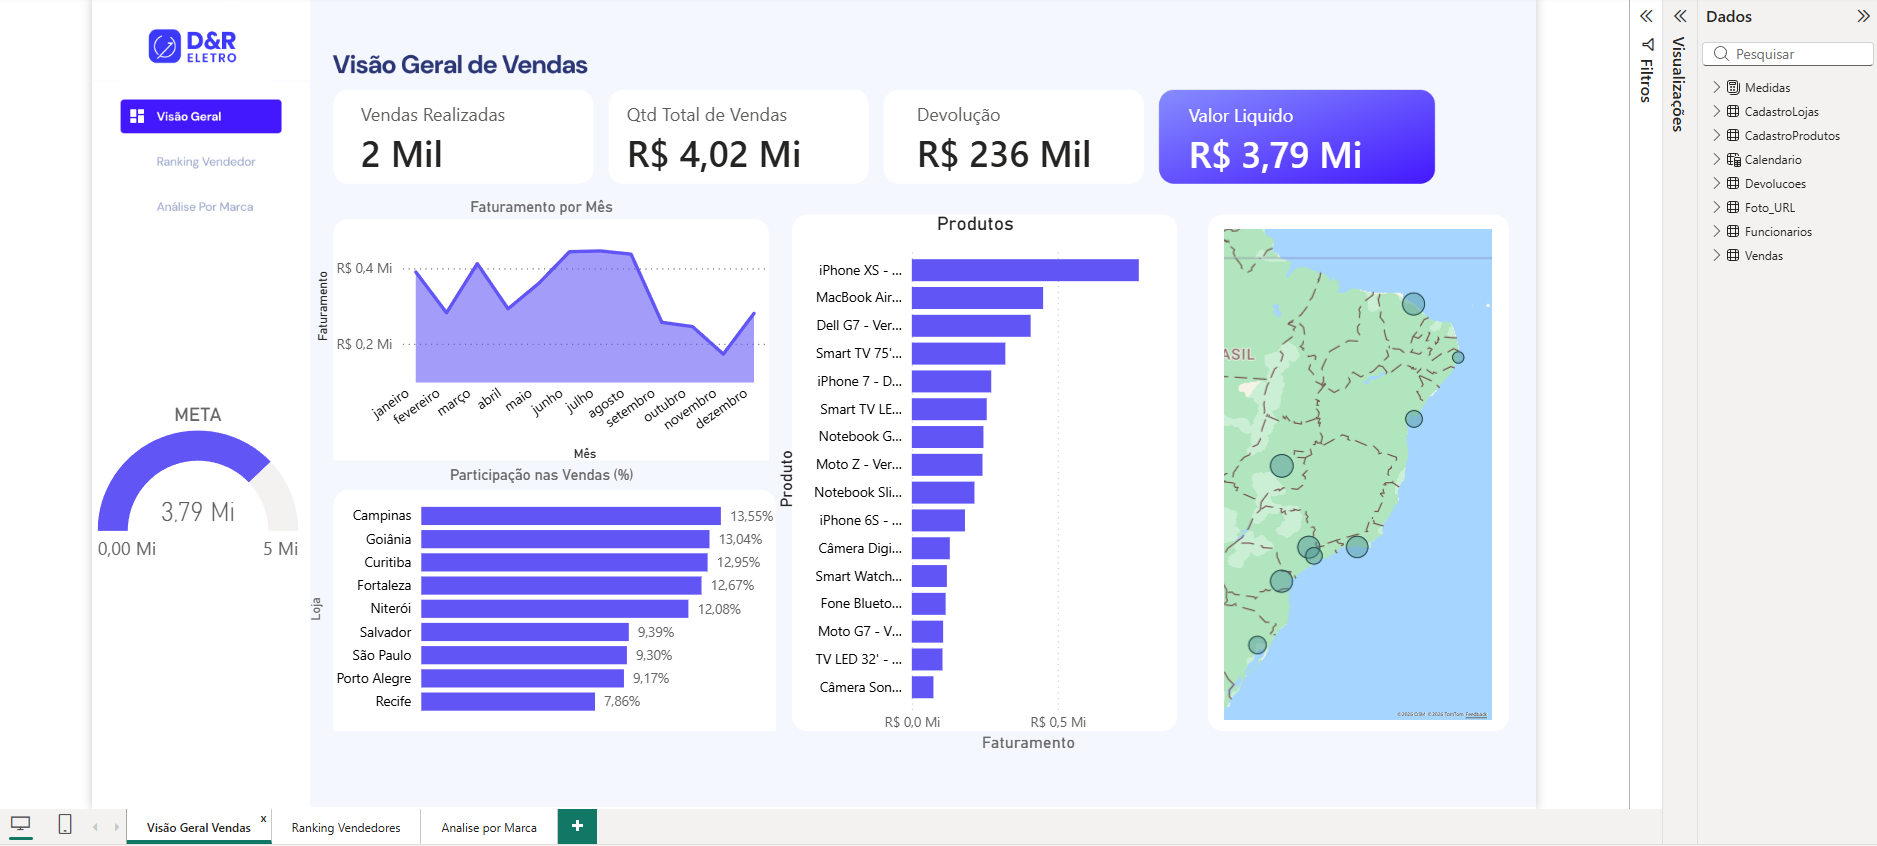

The page's visual inventory and layout, read from the dashboard file:
{"tool":"powerbi","page":{"name":"Visão Geral Vendas","canvas":[1280,720],"ordinal":0},"visuals":[{"type":"barChart","title":"Participação nas Vendas (%)","fields":{"Y":["CadastroLojas.Participação % por Loja"],"Category":["CadastroLojas.Loja"]},"box":[188,415.9,421.2,230.5],"z":0},{"type":"stackedAreaChart","fields":{"Category":["Calendario.Date.Variation.Hierarquia de datas.Ano","Calendario.Date.Variation.Hierarquia de datas.Mês"],"Y":["CadastroLojas.Faturamento"]},"box":[194.2,178.2,408.8,237.6],"z":1000},{"type":"cardVisual","fields":{"Data":["CadastroLojas.Qtd Vendida Funcionario"]},"box":[209.3,78,245.6,96.7],"z":2000},{"type":"cardVisual","fields":{"Data":["CadastroLojas.Valor Total de Vendas"]},"box":[445.1,77.1,257.1,97.5],"z":3000},{"type":"cardVisual","fields":{"Data":["CadastroLojas.Total Devolucoes"]},"box":[702.3,73.6,227,103.7],"z":4000},{"type":"cardVisual","fields":{"Data":["CadastroLojas.Valor Liquido"]},"box":[943.5,74.5,265.1,103.7],"z":5000},{"type":"barChart","title":"Produtos","fields":{"Y":["CadastroLojas.Faturamento"],"Category":["CadastroProdutos.Produto","CadastroProdutos.Marca"]},"box":[603,190.6,360.9,483.2],"z":6000},{"type":"azureMap","title":"Mapa de Faturamento por Estado","fields":{"Size":["CadastroLojas.Faturamento"],"Category":["CadastroLojas.Loja"]},"box":[998.4,200.4,248.3,446],"z":7000},{"type":"gauge","title":"META","fields":{"Y":["CadastroLojas.Valor Liquido"],"MaxValue":["CadastroLojas.Meta Valor Líquido"]},"box":[0,360,188,149.8],"z":8000}]}

Visuals, with their boxes on the page's 1280x720 design canvas (x1, y1, x2, y2). These are canvas units, not pixel positions in the 1877x846 screenshot, which may show the page scaled, cropped or inside an application window:
"Participação nas Vendas (%)" barChart: [x1=188, y1=416, x2=609, y2=646]
stackedAreaChart - Calendario.Date.Variation.Hierarquia de datas.Ano x Calendario.Date.Variation.Hierarquia de datas.Mês: [x1=194, y1=178, x2=603, y2=416]
cardVisual - CadastroLojas.Qtd Vendida Funcionario: [x1=209, y1=78, x2=455, y2=175]
cardVisual - CadastroLojas.Valor Total de Vendas: [x1=445, y1=77, x2=702, y2=175]
cardVisual - CadastroLojas.Total Devolucoes: [x1=702, y1=74, x2=929, y2=177]
cardVisual - CadastroLojas.Valor Liquido: [x1=944, y1=74, x2=1209, y2=178]
"Produtos" barChart: [x1=603, y1=191, x2=964, y2=674]
"Mapa de Faturamento por Estado" azureMap: [x1=998, y1=200, x2=1247, y2=646]
"META" gauge: [x1=0, y1=360, x2=188, y2=510]
